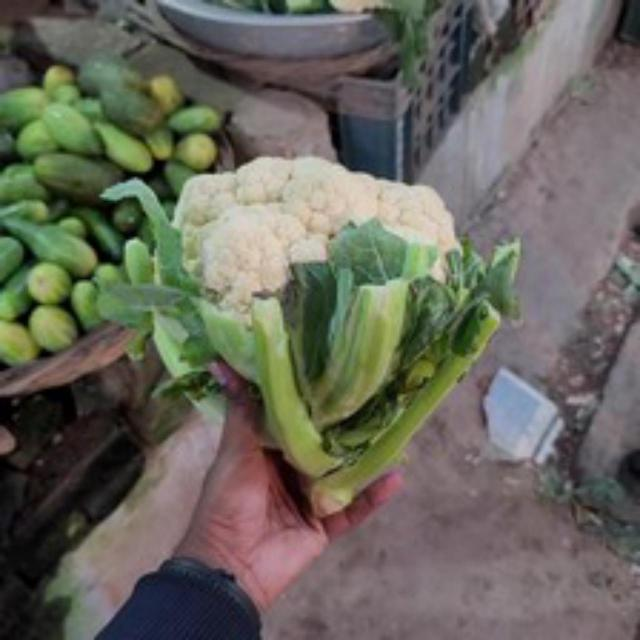cauliflower: (176, 154, 466, 300)
